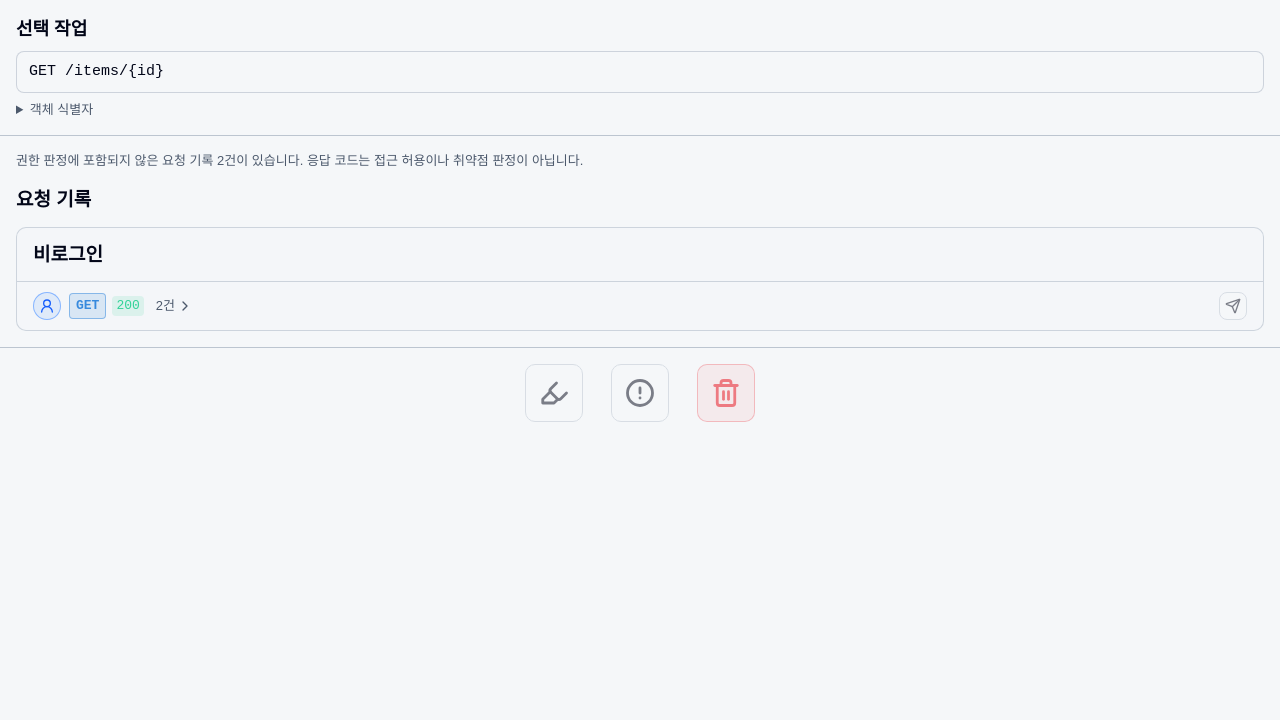
disables group and individual deletion while the snapshot is suspended
Expected: the button named "객체 삭제" is disabled, [697,364,755,422]
Click the button named "요청 2건 펼치기".
click(174, 306)  # box [152,296,197,316]
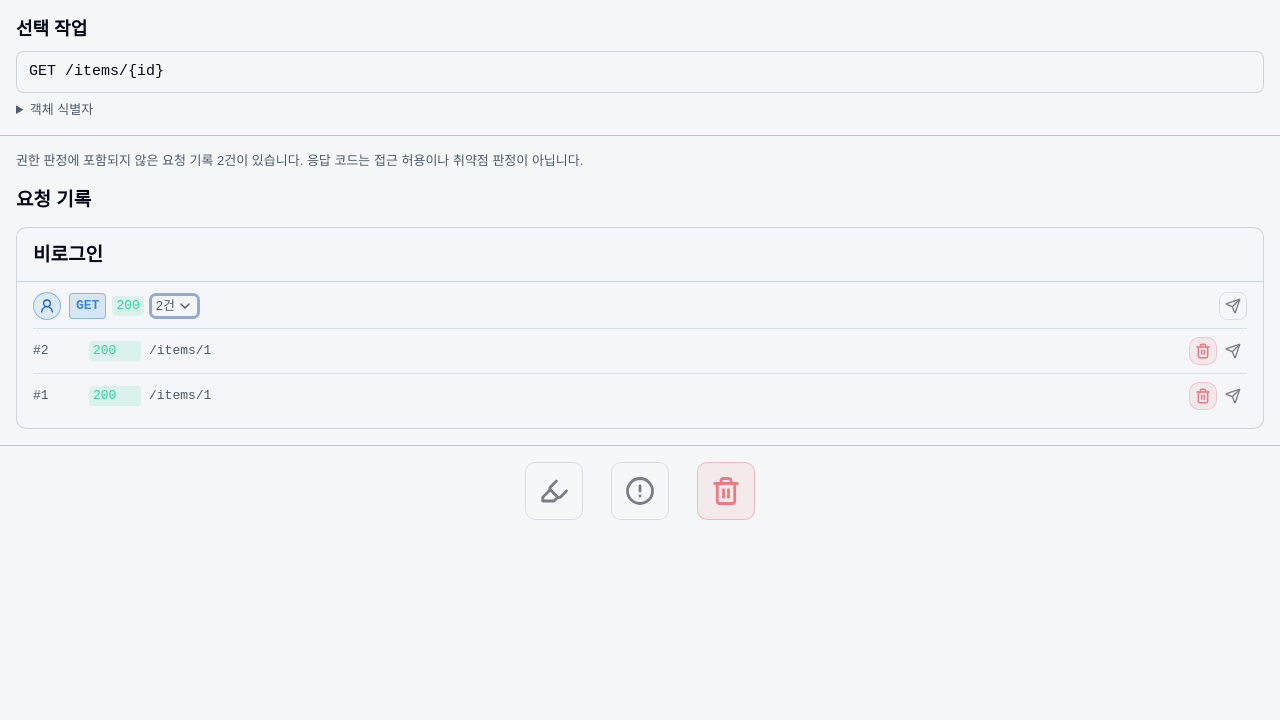
Now the button named "#1 요청 삭제" is disabled, box [1189,382,1217,410]
Now the button named "#2 요청 삭제" is disabled, box [1189,337,1217,365]
